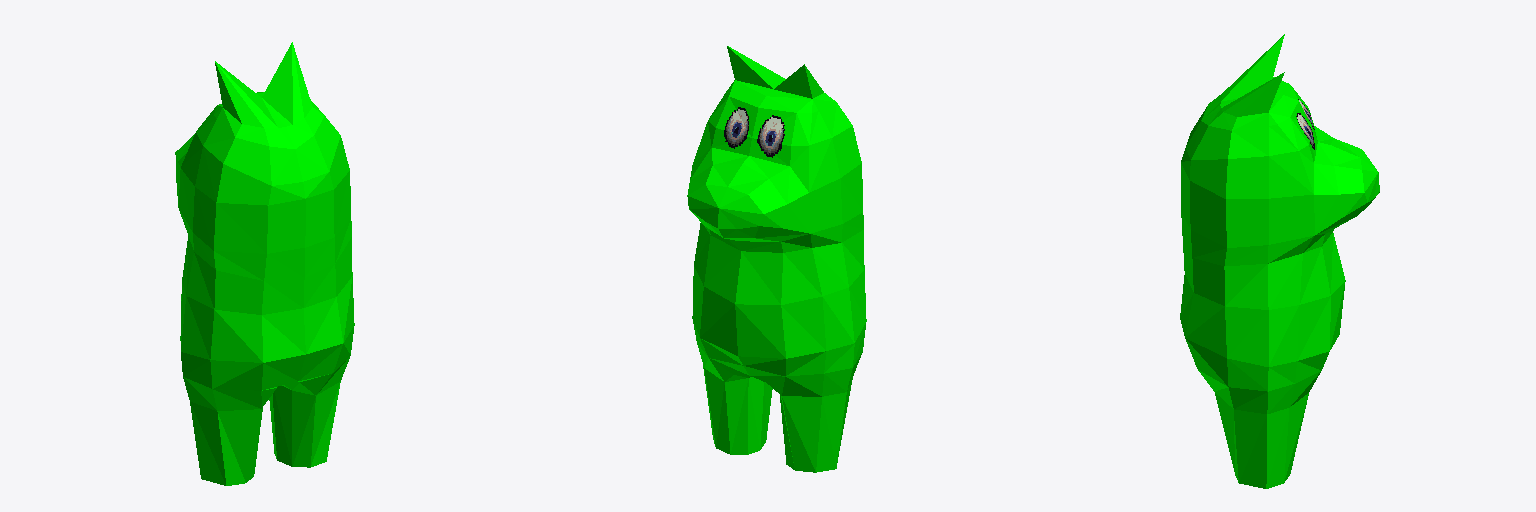
The picture shows the model from 3 angles: view 1: azimuth 30°, elevation 25°; view 2: azimuth 150°, elevation 25°; view 3: azimuth 270°, elevation 25°; orthographic projection.
Visible parts, largest first — view 1: dummy; view 2: dummy; view 3: dummy.
Boxes of the visible parts, x1,y1,x2,y2 form: dummy: [175, 42, 354, 485]; dummy: [687, 46, 866, 472]; dummy: [1180, 34, 1379, 488].
Size of the model in its own units: 0.7423 by 1.78 by 0.7936.
1 materials, 1 textured.